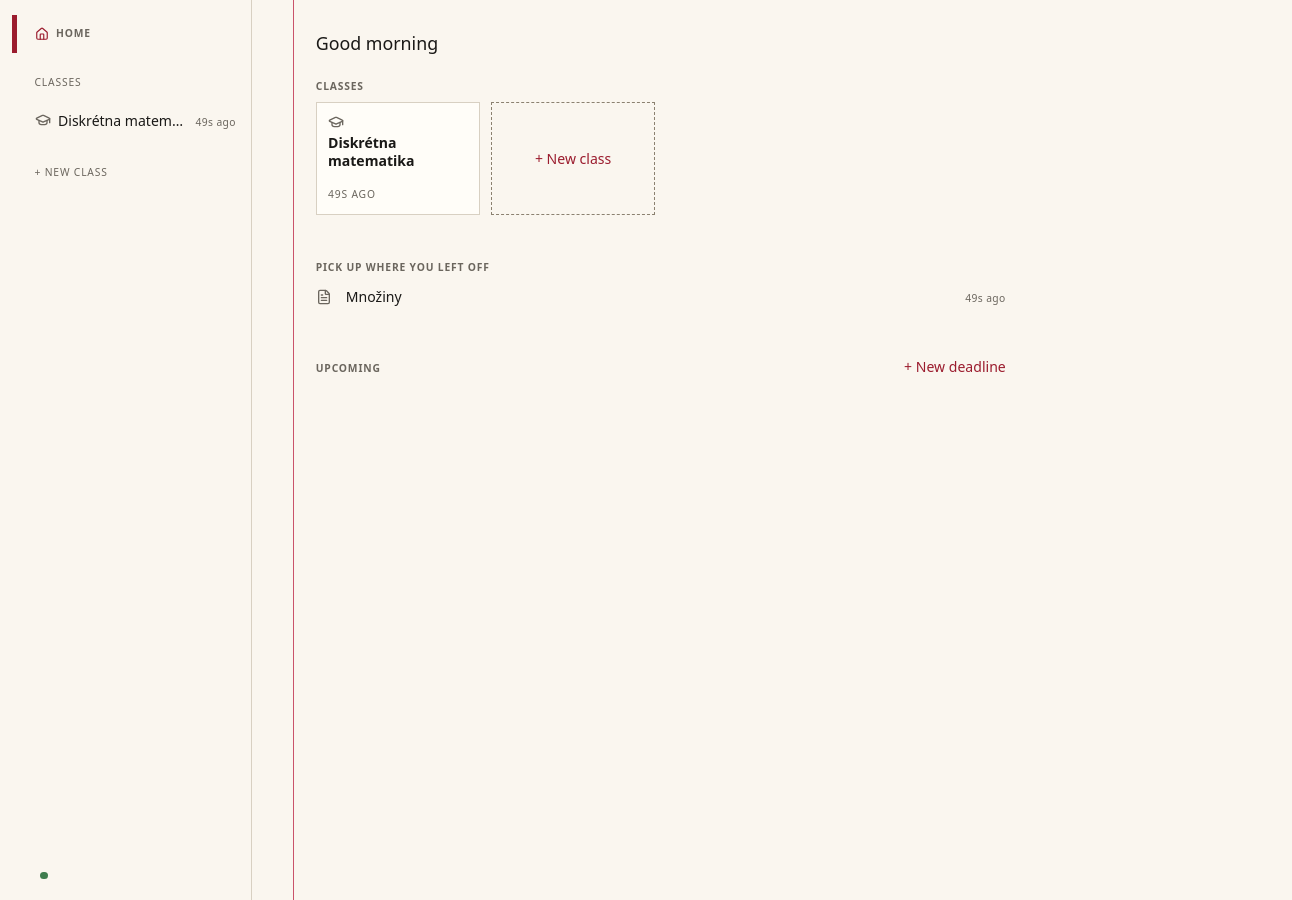
App class rail › creates a note in the selected class when n is pressed
This screenshot has width=1292, height=900.
Click the 1st button "Diskrétna matematika 49s ago".
click(132, 120)  # box [12, 98, 251, 142]
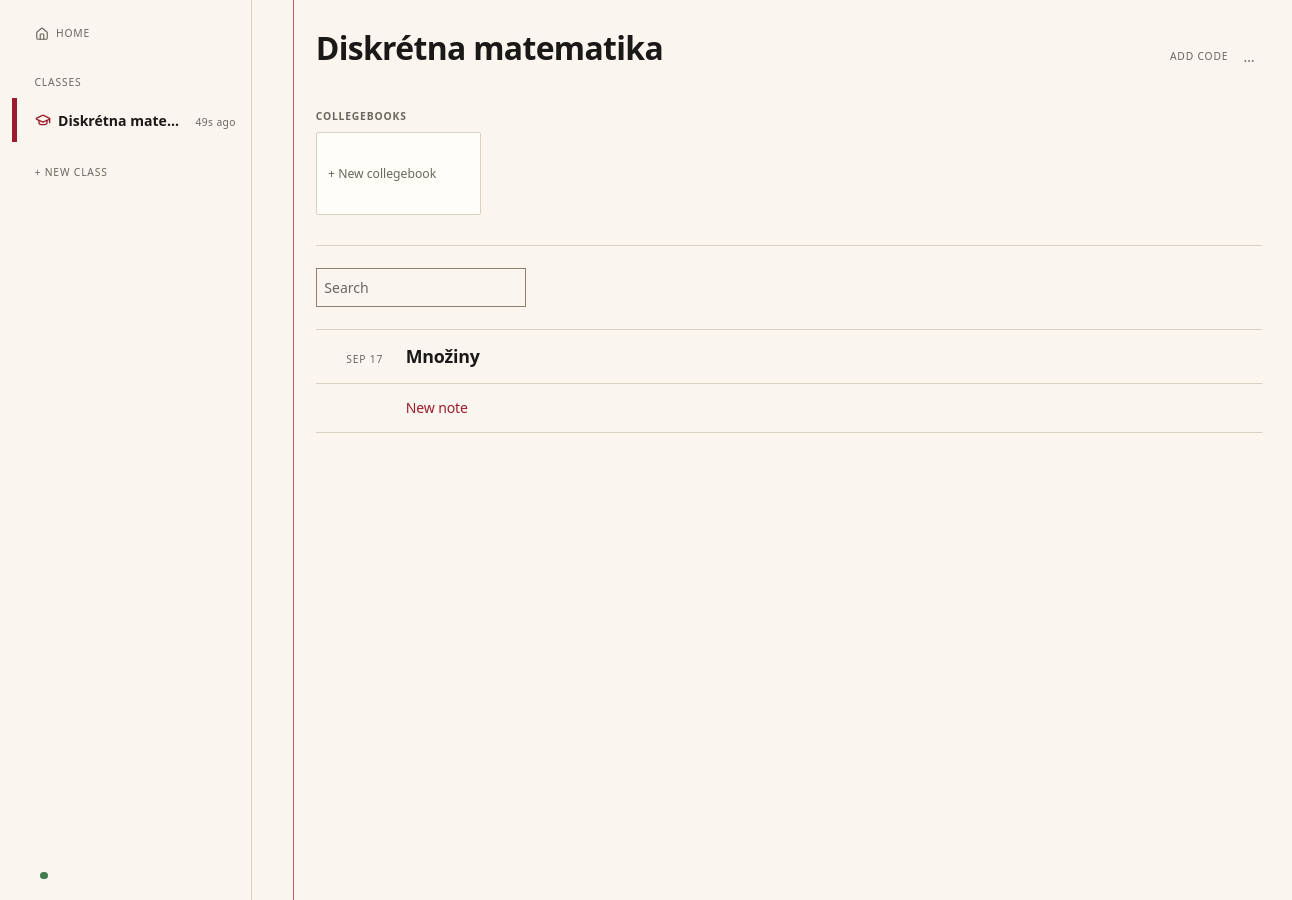
Press n
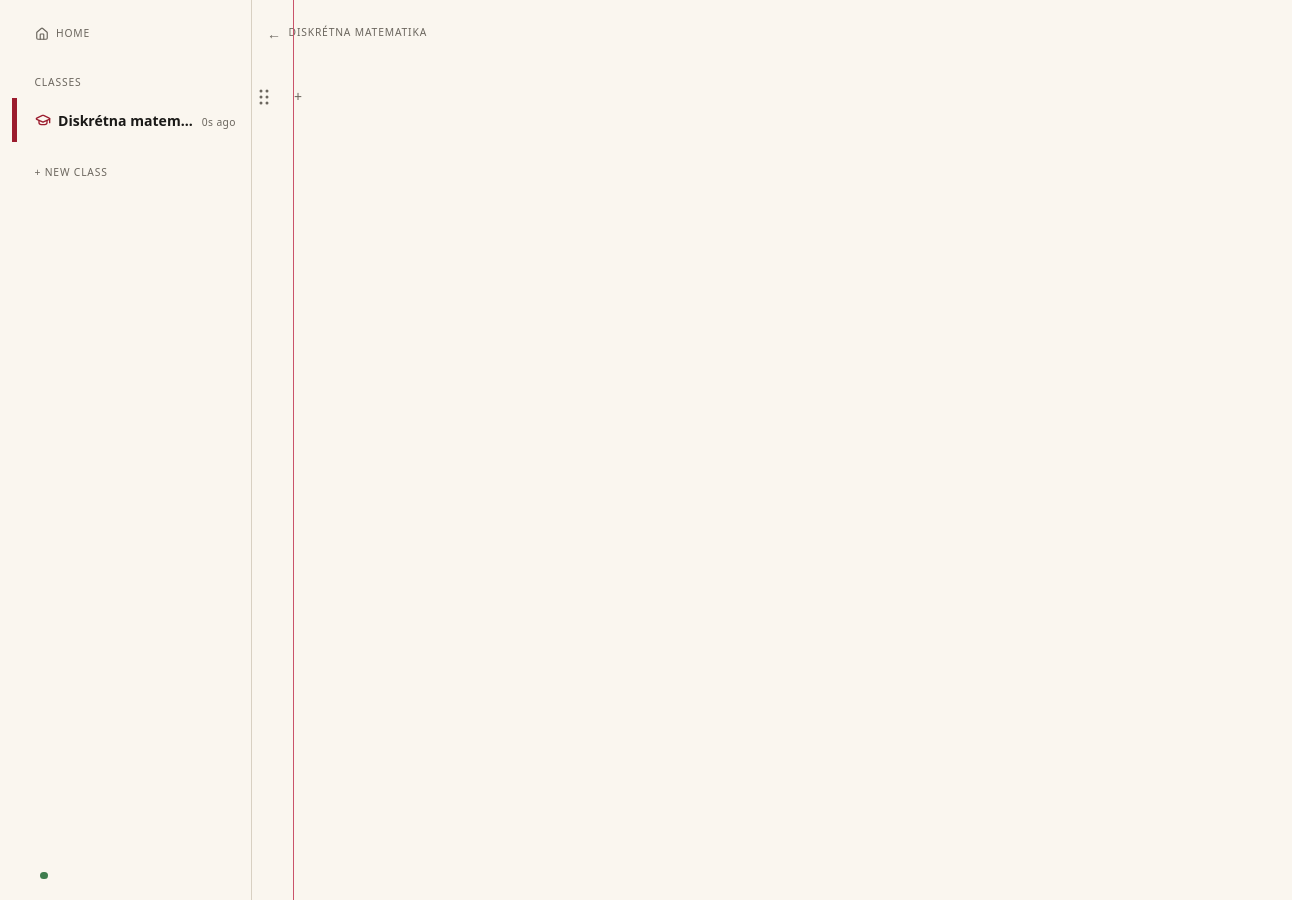
Expected: the element with class "tiptap" is shown, [252, 75, 320, 119]
Expected: the field with class "tiptap" is shown, [252, 66, 873, 164]
